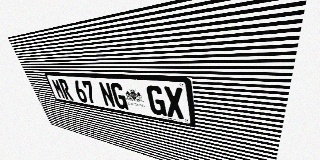6: (72, 80, 89, 103)
7: (81, 81, 98, 105)
G: (146, 85, 167, 116), (110, 83, 129, 110)
M: (51, 79, 66, 99)
N: (98, 82, 116, 108)
R: (58, 79, 74, 101)
X: (163, 86, 185, 120)
